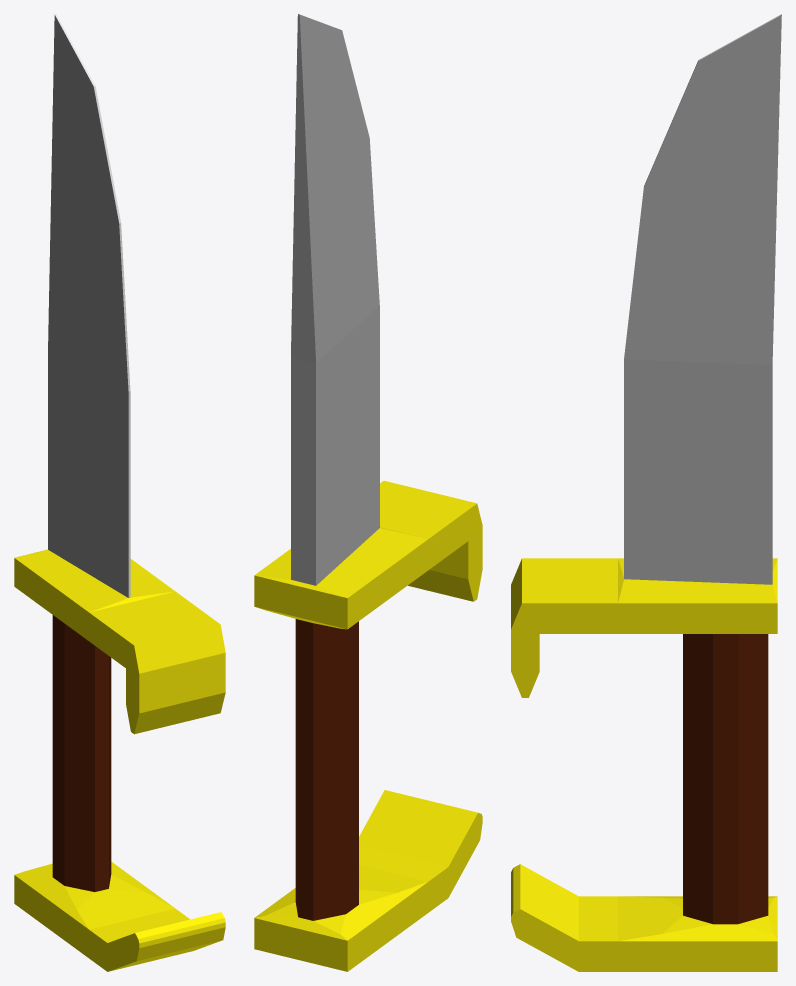
The model's file is DorianDagger.fbx.
The picture shows the model from 3 angles, left to right: view 1: azimuth 30°, elevation 25°; view 2: azimuth 150°, elevation 25°; view 3: azimuth 270°, elevation 25°; orthographic projection. The views are drawn at different scales.
Visible parts, largest first — view 1: Cube; view 2: Cube; view 3: Cube.
Part boxes in pixels (<box>): Cube: <box>14,14,225,971</box>; Cube: <box>254,14,482,971</box>; Cube: <box>511,14,781,971</box>.
Size of the model in its own units: 36.85 by 357 by 93.75.
